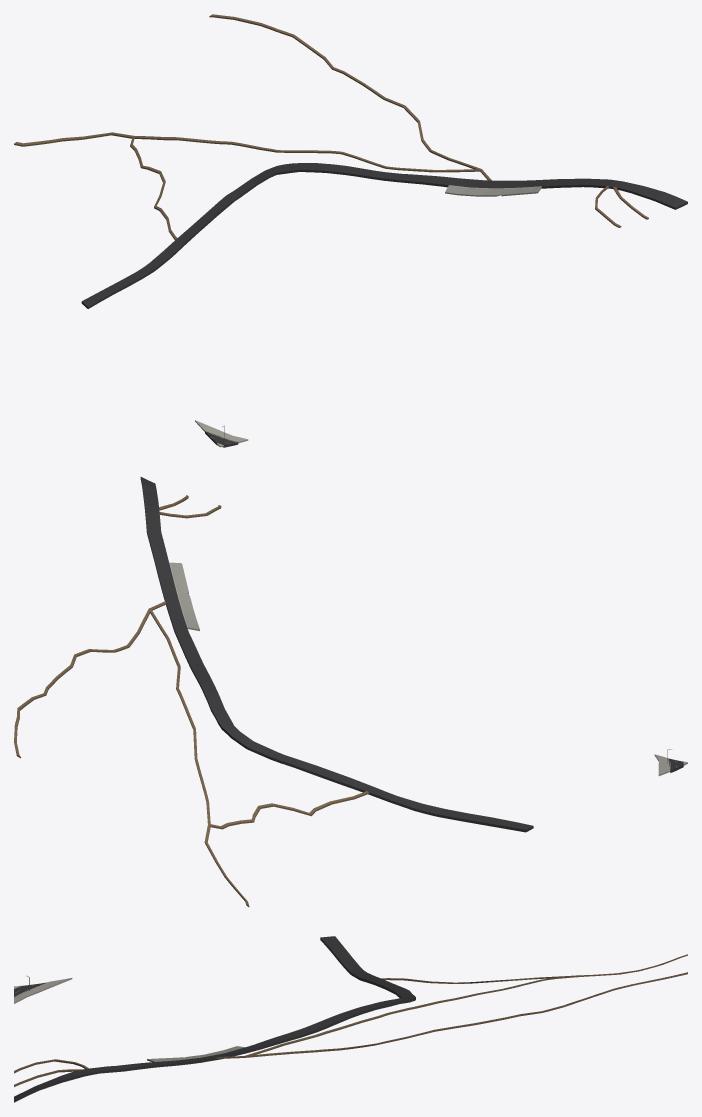
The picture shows the model from 3 angles, top to bottom: view 1: azimuth 30°, elevation 25°; view 2: azimuth 150°, elevation 25°; view 3: azimuth 270°, elevation 25°; orthographic projection. The views are drawn at different scales.
Size of the model in its own units: 271 by 86.02 by 292.
